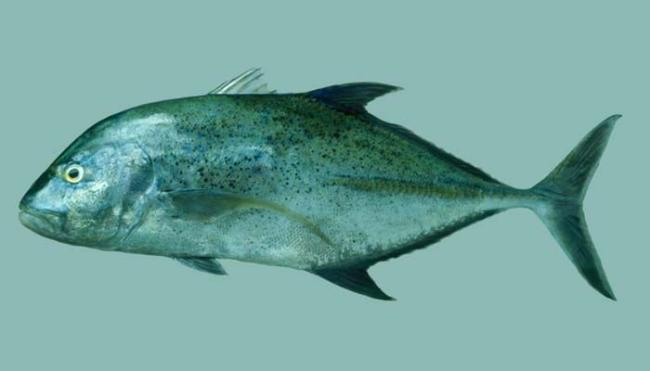fish: (19, 65, 622, 303)
